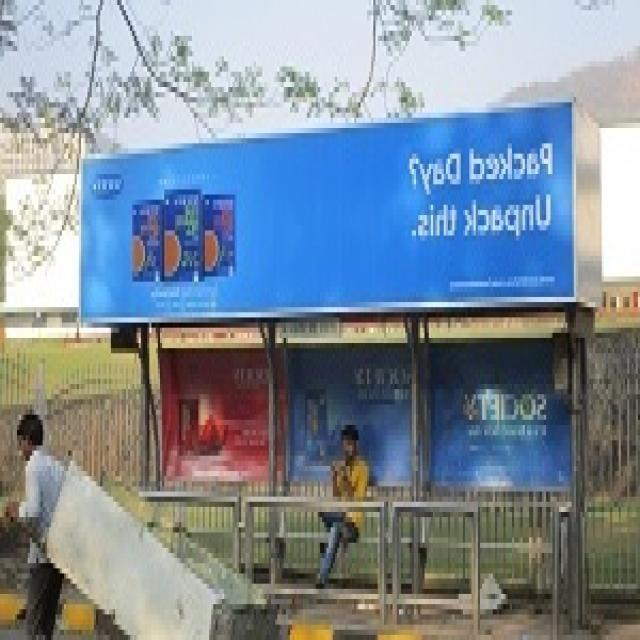Werbetafel frei: (74, 104, 596, 341)
